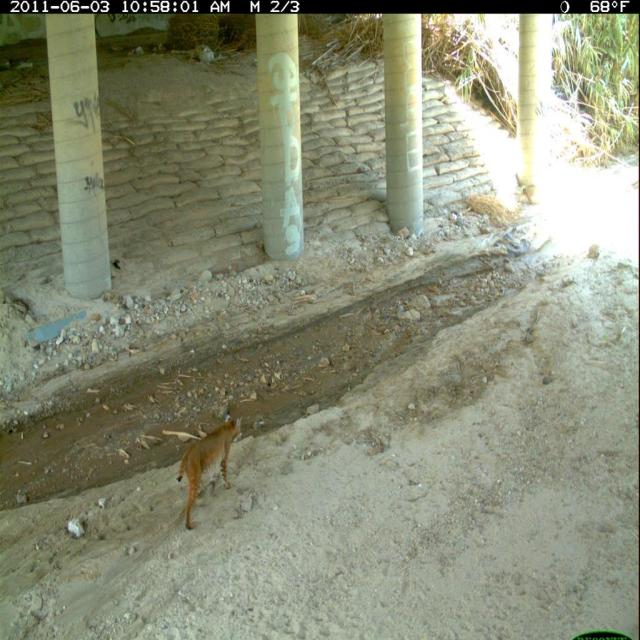bobcat: (174, 406, 246, 536)
